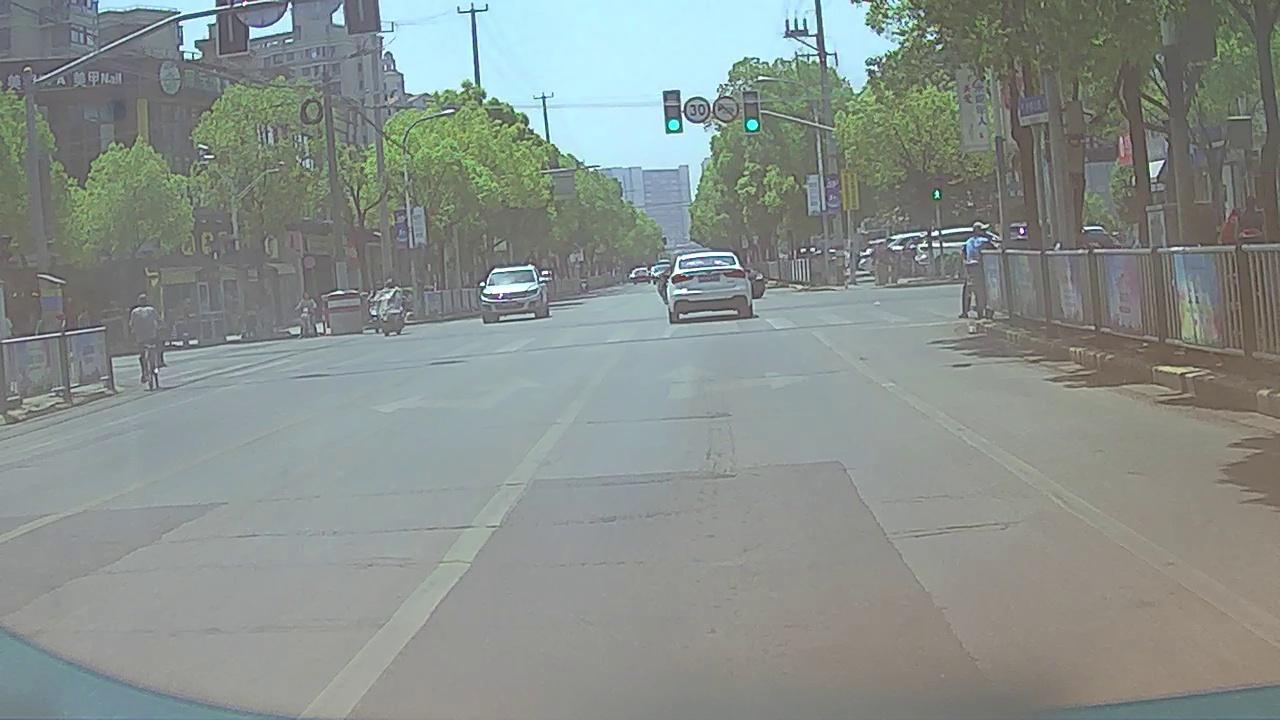traffic_light: (662, 92, 681, 133), (742, 93, 761, 134)
